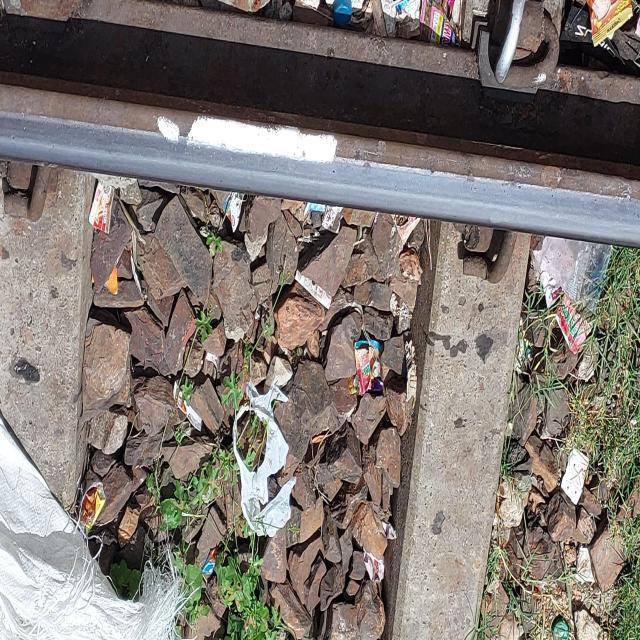squats_high: (353, 147, 363, 163), (467, 170, 475, 186), (430, 162, 436, 174), (332, 168, 336, 176)
